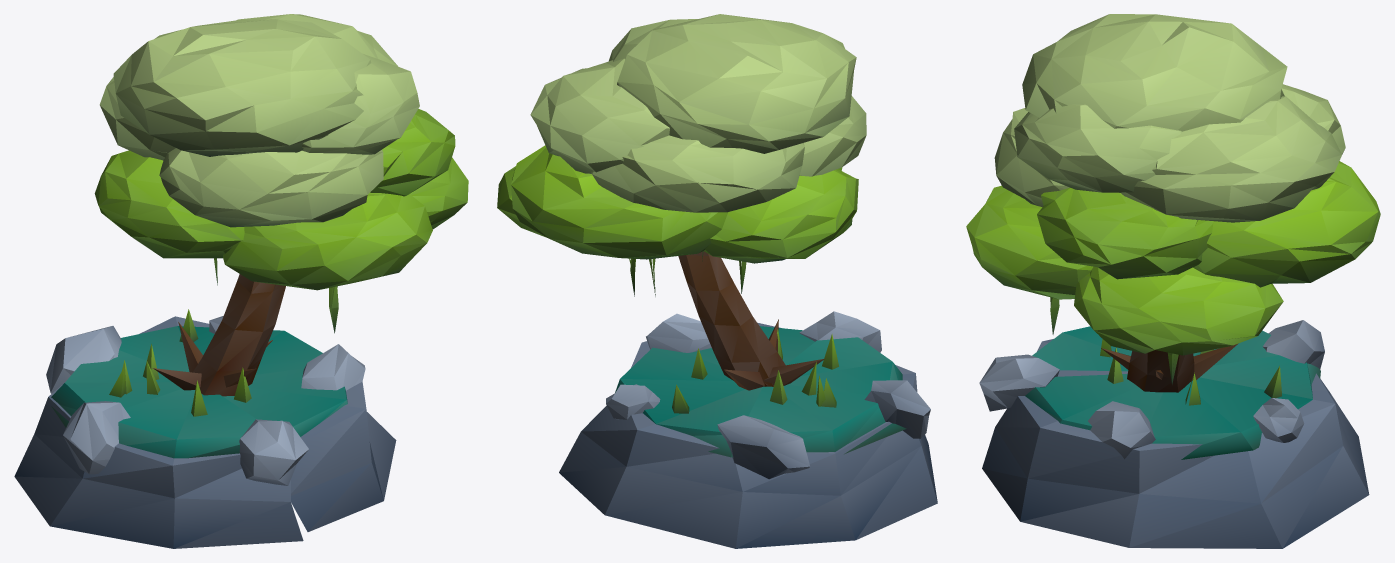
Rendered from pohon_river_highland_265013.glb.
3 views of the same model, side by side, from view 1: azimuth 30°, elevation 25°; view 2: azimuth 150°, elevation 25°; view 3: azimuth 270°, elevation 25° (orthographic). The views are drawn at different scales.
Visible parts, largest first — view 1: Dedaunan_Dan_Sulur, Pulau_Batu_Tepi_Sungai, Batang_Dan_Akar; view 2: Dedaunan_Dan_Sulur, Pulau_Batu_Tepi_Sungai, Batang_Dan_Akar; view 3: Dedaunan_Dan_Sulur, Pulau_Batu_Tepi_Sungai, Batang_Dan_Akar.
Boxes of the visible parts, x1=… form: Dedaunan_Dan_Sulur: x1=94, y1=14, x2=468, y2=333; Pulau_Batu_Tepi_Sungai: x1=14, y1=309, x2=396, y2=548; Batang_Dan_Akar: x1=153, y1=274, x2=285, y2=396; Dedaunan_Dan_Sulur: x1=497, y1=14, x2=866, y2=296; Pulau_Batu_Tepi_Sungai: x1=559, y1=311, x2=937, y2=548; Batang_Dan_Akar: x1=678, y1=251, x2=824, y2=390; Dedaunan_Dan_Sulur: x1=966, y1=14, x2=1380, y2=384; Pulau_Batu_Tepi_Sungai: x1=979, y1=320, x2=1369, y2=548; Batang_Dan_Akar: x1=1101, y1=343, x2=1238, y2=392.
Size of the model in its own units: 6.79 by 6.7 by 5.63.
